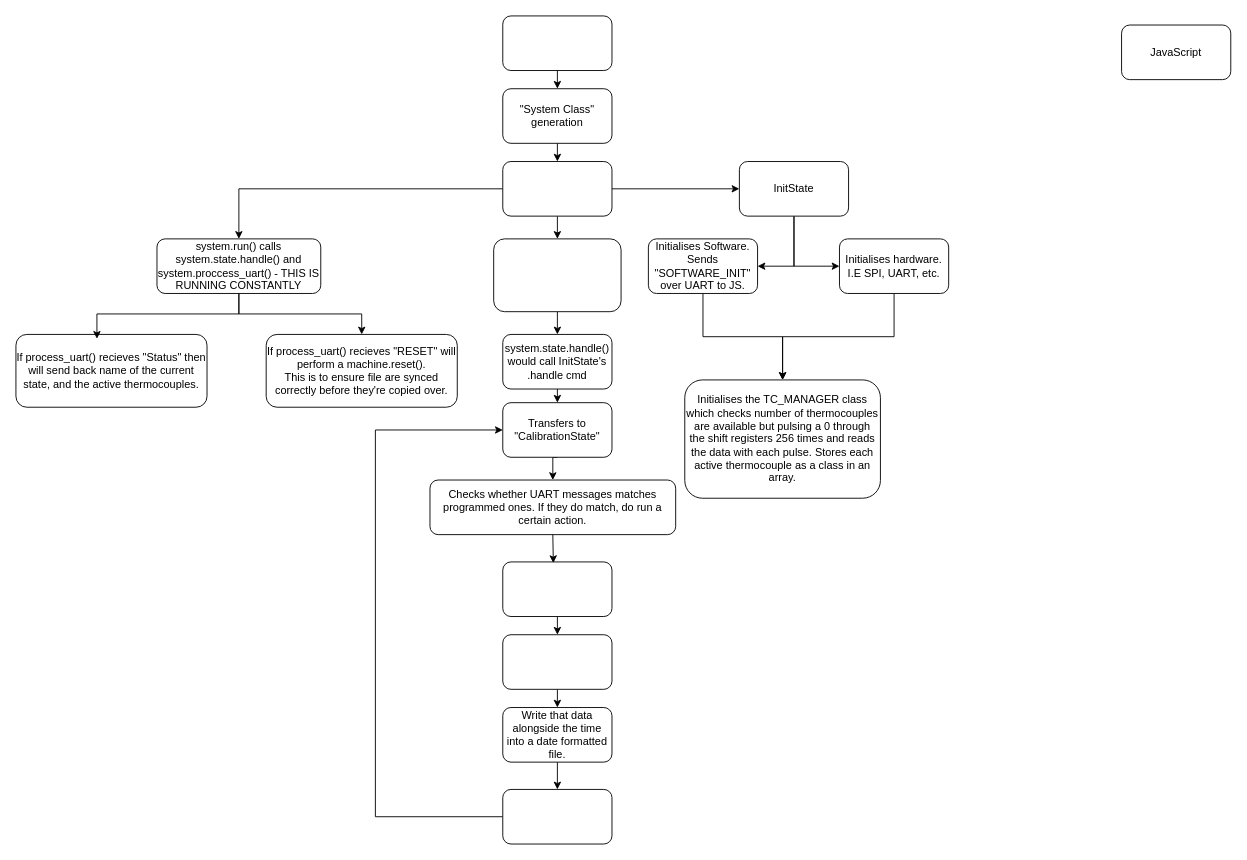
The diagram is 1247 pixels wide and 860 high, and some of its shapes have lost their labels. Here are the shapes that lost their labels. From the top down, the box of each, then its label:
(502, 15, 612, 71): Python
(502, 161, 612, 216): System Class Initialises - Transferring current state to be "InitState"
(493, 238, 621, 312): Enters "main()" fnc which contains while loop calling system.run()
(502, 561, 612, 617): If UART receives "measure" then transfer to MeasureState
(502, 634, 612, 689): Measure all active thermocouples and store that data
(502, 789, 612, 844): If UART message received is "calibrate"
